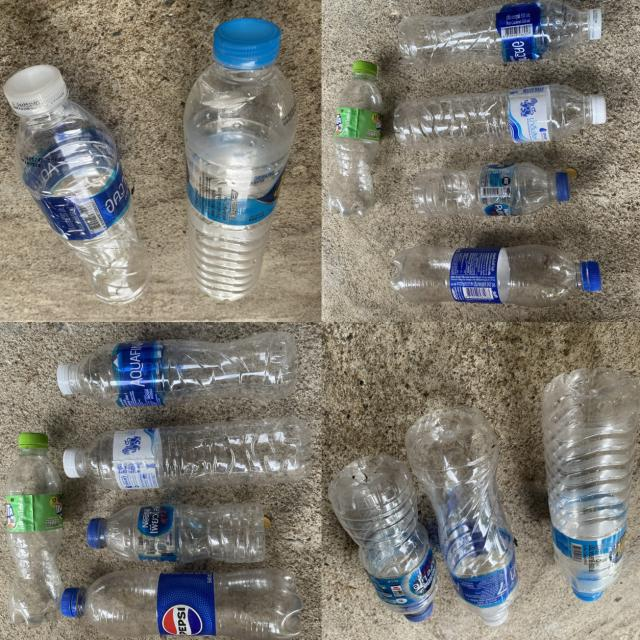plastik: (4, 65, 151, 305), (184, 18, 297, 300), (406, 407, 518, 626), (542, 367, 640, 601), (328, 454, 439, 622), (63, 416, 311, 490), (57, 332, 297, 408), (61, 569, 302, 640), (393, 84, 605, 150), (399, 0, 602, 68), (389, 244, 601, 308), (6, 433, 64, 627), (87, 503, 265, 563), (413, 163, 569, 217), (328, 61, 381, 216)
